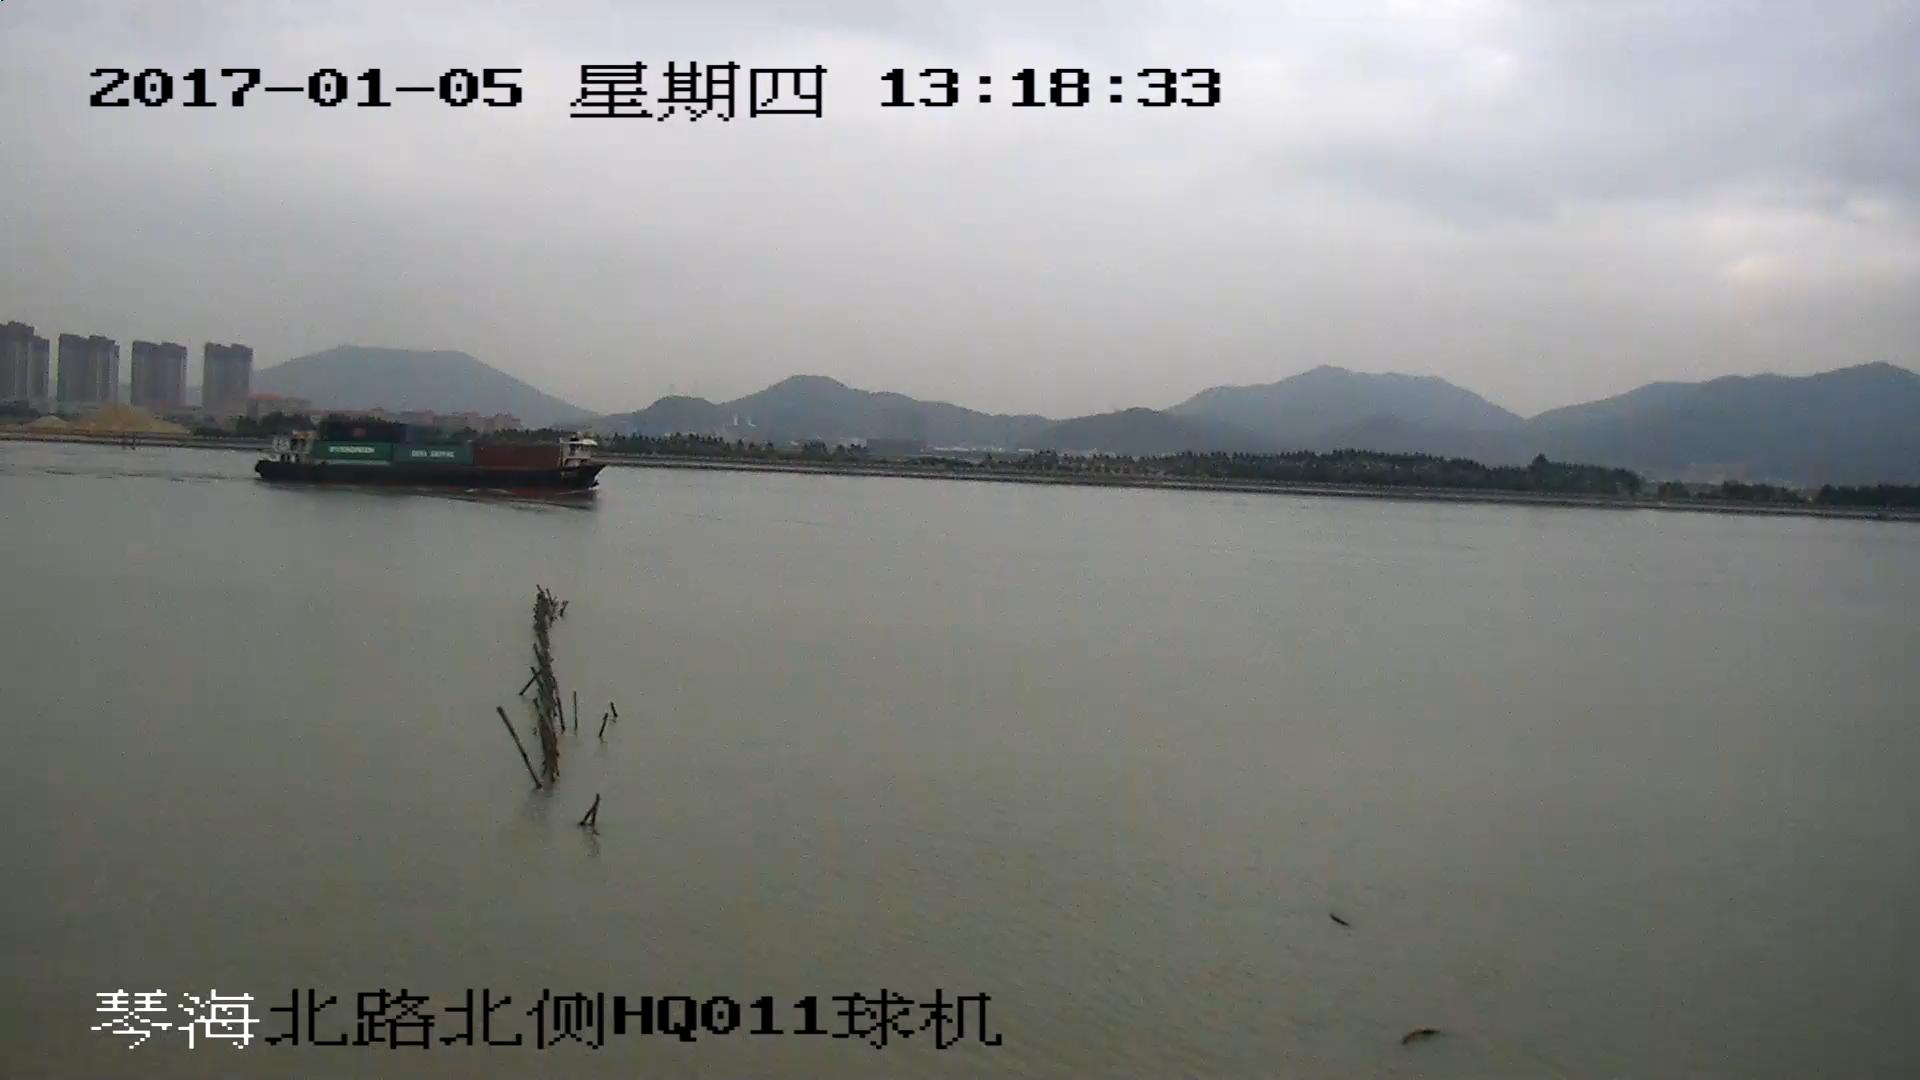container ship: (253, 419, 599, 497)
